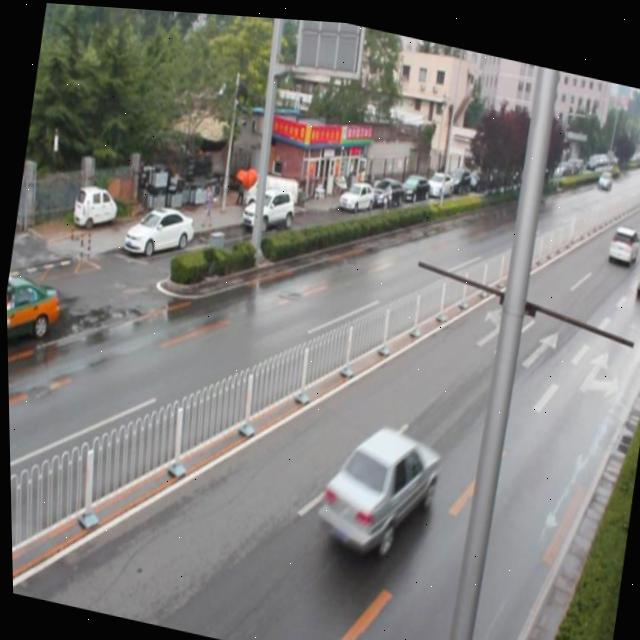car: (307, 409, 443, 565), (603, 214, 638, 261), (631, 244, 640, 295)
